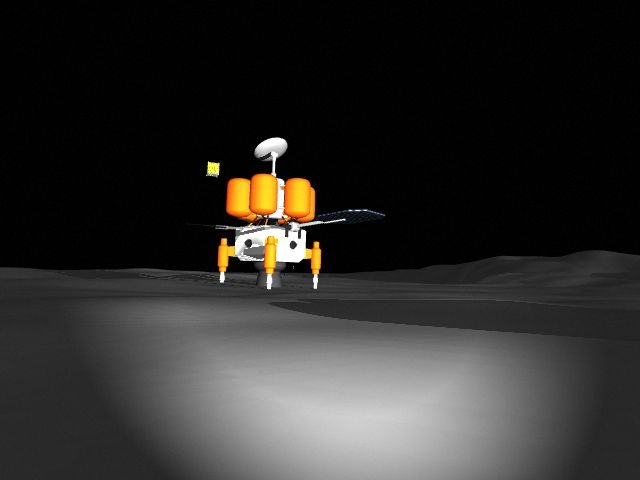cubesat: (201, 159, 223, 178)
